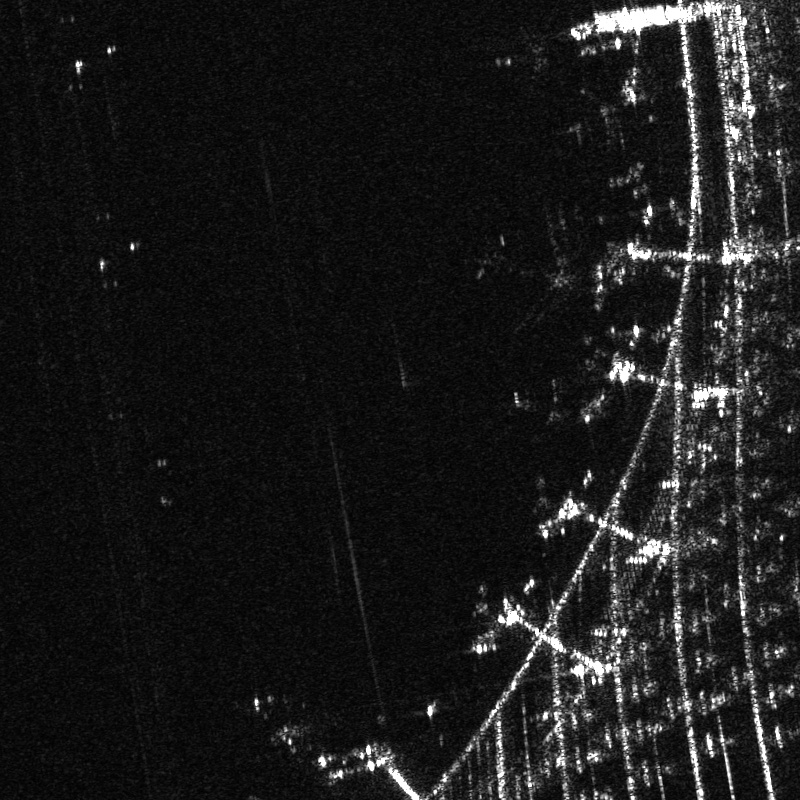A220: (505, 374, 571, 435)
Boeing787: (489, 20, 561, 89)
other: (464, 202, 583, 335)
